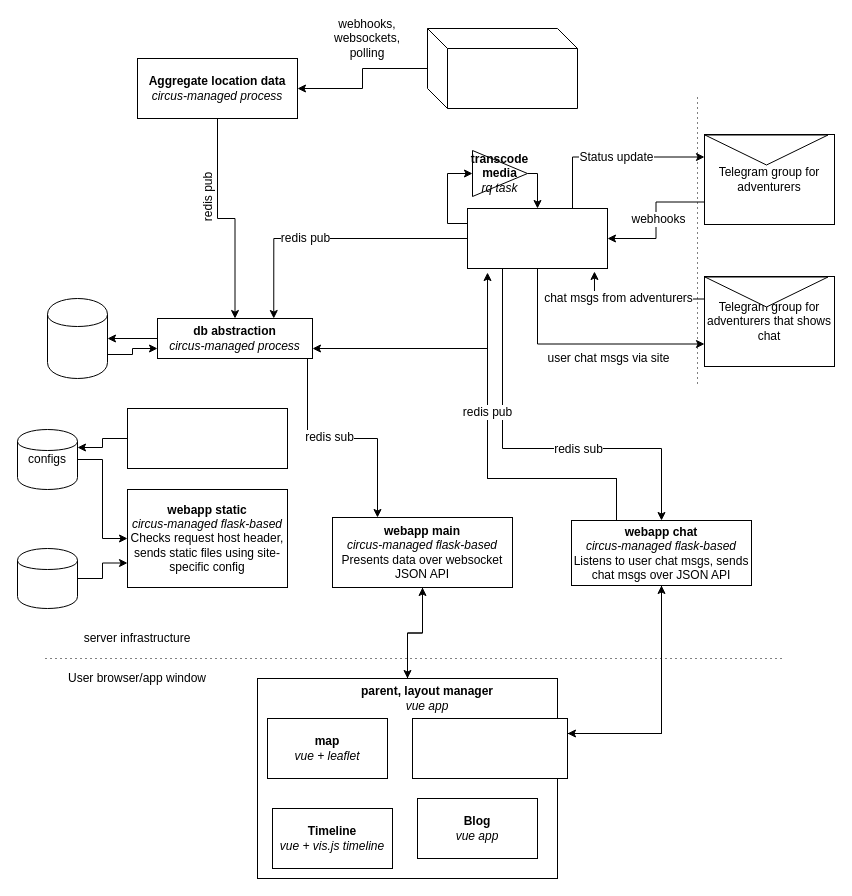
Image size: 852x896. Some labels were removed from this diagram. The shapes that lost their labels are listed below. From the top down, each one's centre as x and y in pixels, then its label:
At (502,68): "location services".
At (537,238): "Telegram bot circus-managed process".
At (77,338): "redis".
At (207,438): "webapp admin circus-managed flask-based Config new sites, change site skin, etc.".
At (47,578): "disk".
At (490,748): "chat vue app Show and send msgs".
